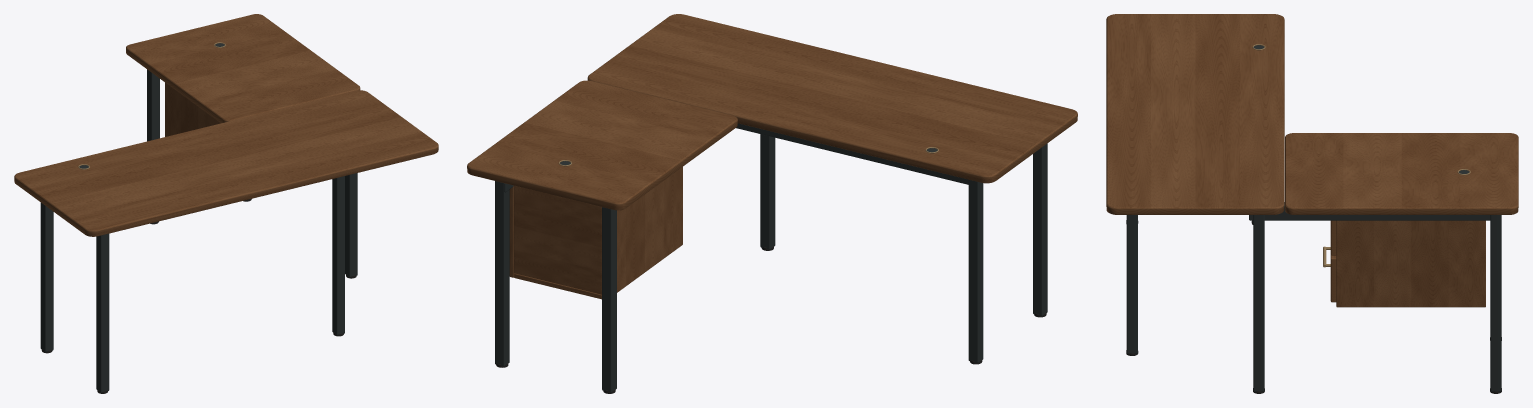
3 views of the same model, side by side, from view 1: azimuth 30°, elevation 25°; view 2: azimuth 150°, elevation 25°; view 3: azimuth 270°, elevation 25° (orthographic). The views are drawn at different scales.
Visible parts, largest first — view 1: Main walnut desk top, Right-hand return top, Square workstation leg, Square workstation leg.002, Square workstation leg.001, Return drawer pedestal side, Square workstation leg.003, Square workstation leg.005; view 2: Main walnut desk top, Right-hand return top, Return drawer pedestal back, Return drawer pedestal side, Square workstation leg.001, Square workstation leg.005, Square workstation leg.004, Square workstation leg, Square workstation leg.002, Main under-top rail; view 3: Main walnut desk top, Right-hand return top, Return drawer pedestal side.001, Square workstation leg.003, Square workstation leg.004, Square workstation leg.002, Return under-top rail.
Part boxes in pixels (box(x1,y1,x2,y2)): Main walnut desk top: box(14, 90, 438, 236); Right-hand return top: box(126, 14, 360, 123); Square workstation leg: box(96, 233, 109, 392); Square workstation leg.002: box(332, 176, 344, 335); Square workstation leg.001: box(40, 202, 53, 351); Return drawer pedestal side: box(165, 82, 220, 136); Square workstation leg.003: box(345, 173, 357, 277); Square workstation leg.005: box(147, 69, 159, 141); Main walnut desk top: box(587, 14, 1077, 183); Right-hand return top: box(467, 80, 737, 210); Return drawer pedestal back: box(514, 185, 601, 294); Return drawer pedestal side: box(617, 167, 682, 292); Square workstation leg.001: box(968, 180, 983, 362); Square workstation leg.005: box(602, 207, 616, 392); Square workstation leg.004: box(495, 181, 509, 366); Square workstation leg: box(1033, 143, 1047, 315); Square workstation leg.002: box(760, 134, 775, 249); Main under-top rail: box(736, 123, 968, 184); Main walnut desk top: box(1106, 14, 1284, 214); Right-hand return top: box(1285, 133, 1518, 214); Return drawer pedestal side.001: box(1336, 220, 1485, 307); Square workstation leg.003: box(1253, 215, 1264, 391); Square workstation leg.004: box(1490, 215, 1501, 391); Square workstation leg.002: box(1126, 215, 1137, 353); Return under-top rail: box(1249, 202, 1490, 220).
Size of the model in its own units: 1.6 by 0.759 by 1.43.
Materials: 5 (2 with a texture image).
